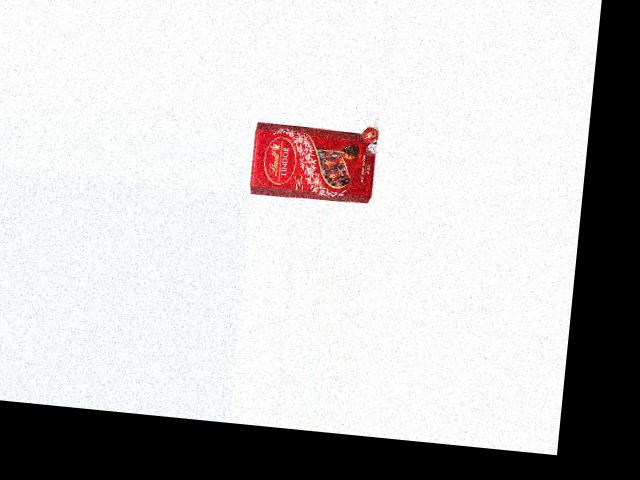chocolate: (249, 114, 378, 204)
